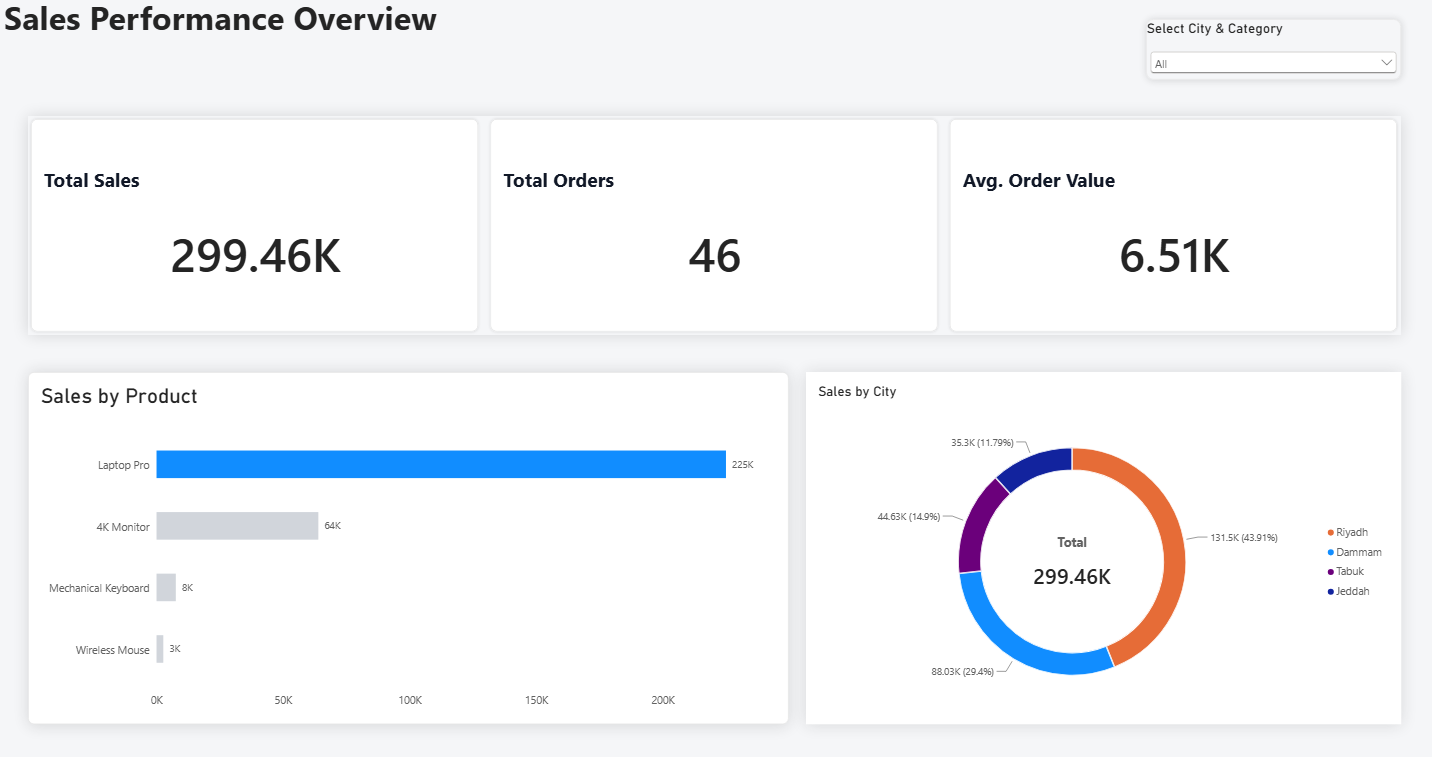

The dashboard page shown, as its layout file describes it:
{"tool":"powerbi","page":{"name":"Page 1","canvas":[1920,1080],"ordinal":0},"visuals":[{"type":"cardVisual","title":"Avg. Order Value","fields":{"Data":["Sum(sales vw_SalesSummary.total_sales)","Count(sales vw_SalesSummary.order_id)","Avg(sales vw_SalesSummary.total_sales)"]},"box":[48,160,1808,288],"z":0},{"type":"clusteredBarChart","title":"Sales by Product","fields":{"Category":["sales vw_SalesSummary.product_name"],"Y":["Sum(sales vw_SalesSummary.total_sales)"]},"box":[48,496,1002.3,463.6],"z":1},{"type":"donutChart","title":"Sales by City","fields":{"Category":["sales vw_SalesSummary.city"],"Y":["Sum(sales vw_SalesSummary.total_sales)"]},"box":[1072,496,784,464],"z":2},{"type":"textbox","box":[16,0,592,160],"z":3},{"type":"slicer","title":"Select City & Category","fields":{"Values":["sales vw_SalesSummary.city","sales vw_SalesSummary.category"]},"box":[1520,32,336,80],"z":4}]}

Visuals, with their boxes on the page's 1920x1080 design canvas (x1, y1, x2, y2). These are canvas units, not pixel positions in the 1432x757 screenshot, which may show the page scaled, cropped or inside an application window:
"Avg. Order Value" cardVisual: [left=48, top=160, right=1856, bottom=448]
"Sales by Product" clusteredBarChart: [left=48, top=496, right=1050, bottom=960]
"Sales by City" donutChart: [left=1072, top=496, right=1856, bottom=960]
textbox: [left=16, top=0, right=608, bottom=160]
"Select City & Category" slicer: [left=1520, top=32, right=1856, bottom=112]
